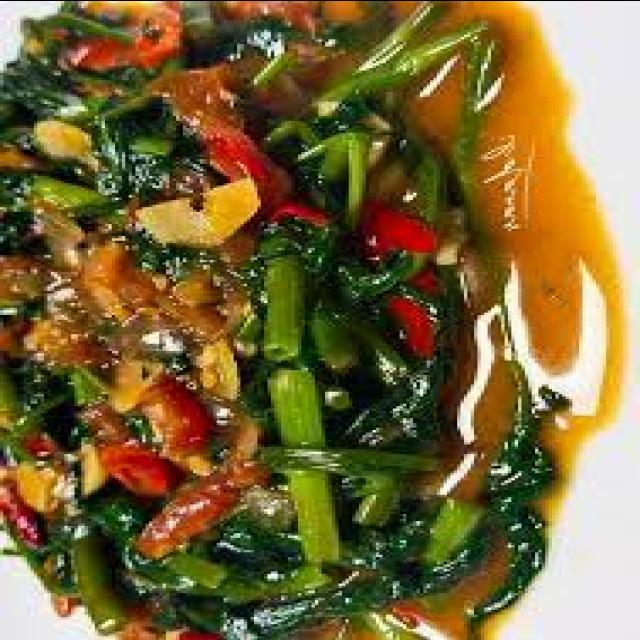tumis kangkung: (9, 28, 564, 640)
